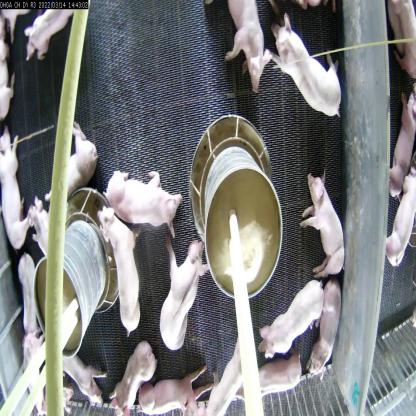Pig: (270, 7, 351, 126), (96, 209, 147, 341), (158, 241, 206, 358), (256, 283, 322, 362), (302, 173, 349, 282), (42, 122, 101, 207), (200, 324, 254, 415), (221, 0, 272, 96), (111, 166, 182, 234), (139, 362, 213, 415), (0, 128, 31, 251), (241, 356, 304, 416), (109, 342, 156, 415), (15, 0, 76, 55), (308, 291, 346, 377), (15, 258, 44, 332)
